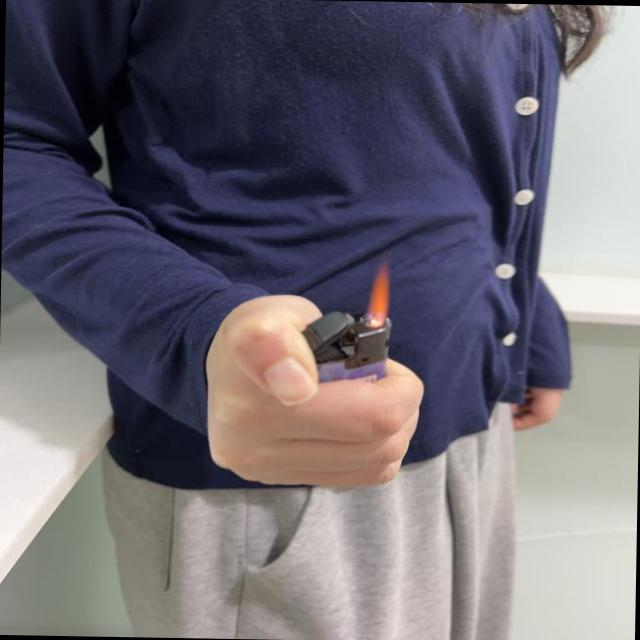Fire: (363, 258, 389, 329)
